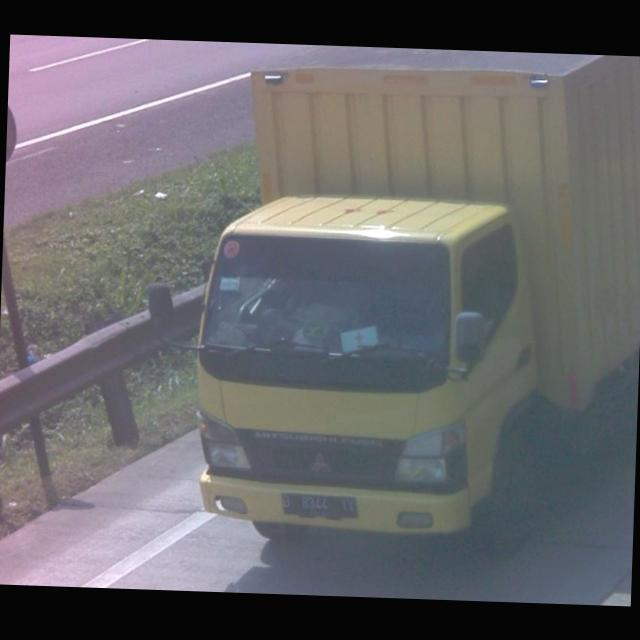plate: (278, 493, 359, 522)
